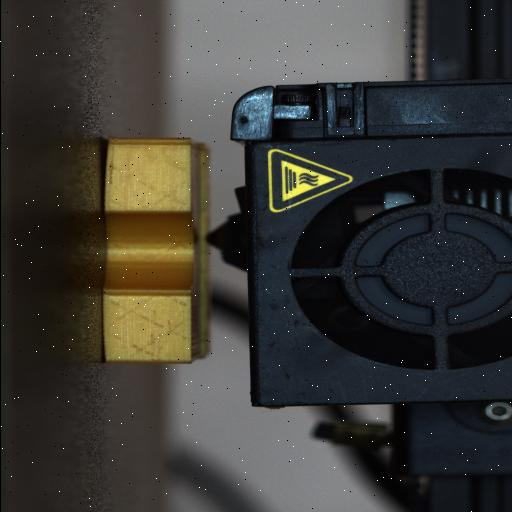warp: (97, 133, 119, 189)
